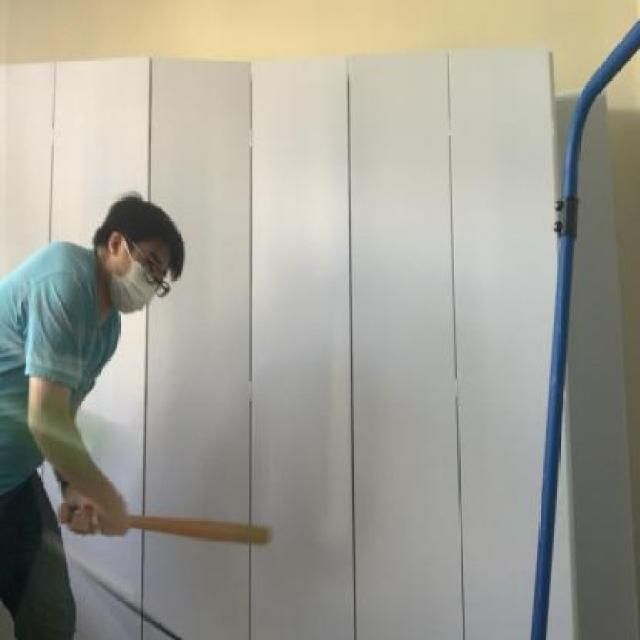baseball: (0, 358, 134, 513)
